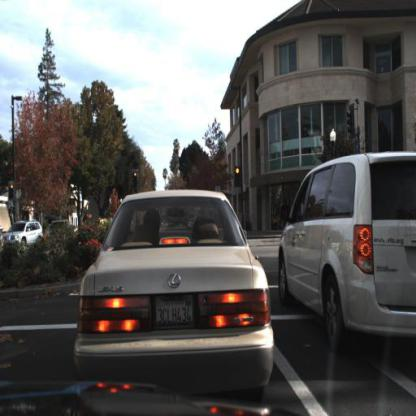car: (73, 186, 273, 387), (278, 143, 416, 365), (2, 218, 44, 248)
trafficLight-Red: (235, 166, 242, 188), (9, 182, 16, 202), (133, 170, 139, 189)
